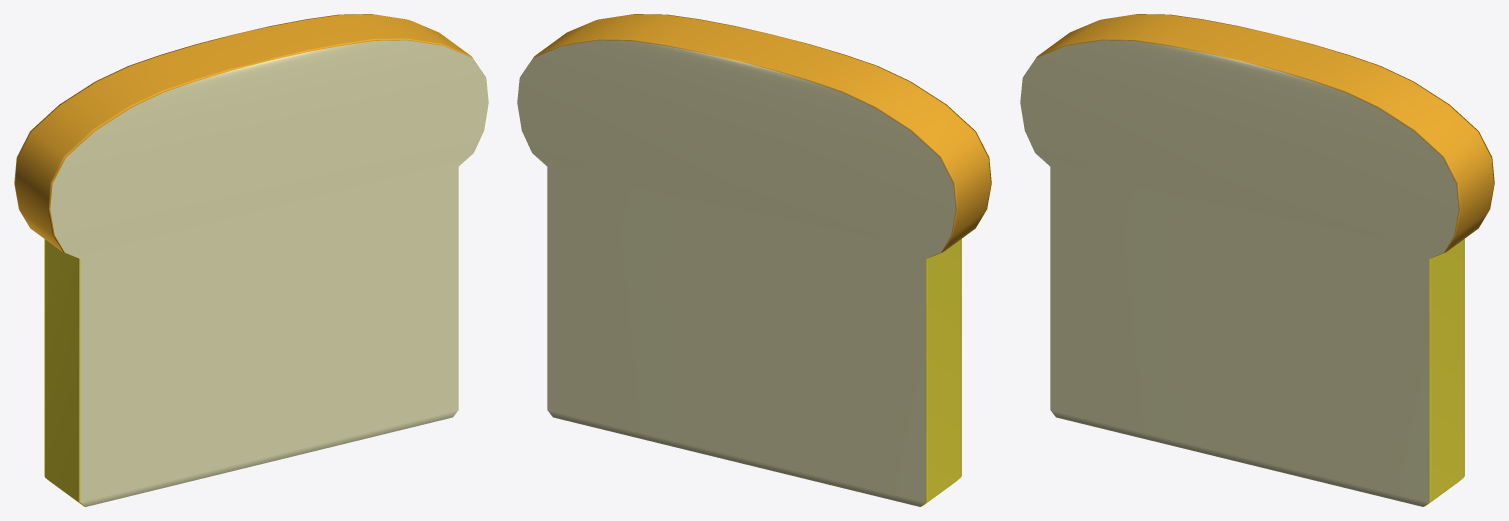
The model's file is Bread_2_Slice.fbx.
The picture shows the model from 3 angles, left to right: view 1: azimuth 30°, elevation 25°; view 2: azimuth 150°, elevation 25°; view 3: azimuth 330°, elevation 25°; orthographic projection.
Visible parts, largest first — view 1: Bread_2_Slice; view 2: Bread_2_Slice; view 3: Bread_2_Slice.
Part boxes in pixels (bbox=[...]): Bread_2_Slice: bbox=[14, 14, 488, 506]; Bread_2_Slice: bbox=[517, 14, 991, 506]; Bread_2_Slice: bbox=[1020, 14, 1494, 506].
Size of the model in its own units: 17.71 by 15.49 by 2.51.
